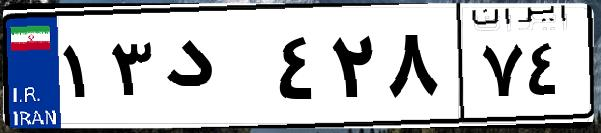1: (57, 26, 110, 100)
2: (330, 28, 385, 110)
3: (110, 28, 158, 98)
4: (270, 28, 330, 110), (525, 38, 570, 115)
7: (475, 38, 525, 113)
8: (385, 28, 445, 110)
د: (158, 20, 270, 120)
